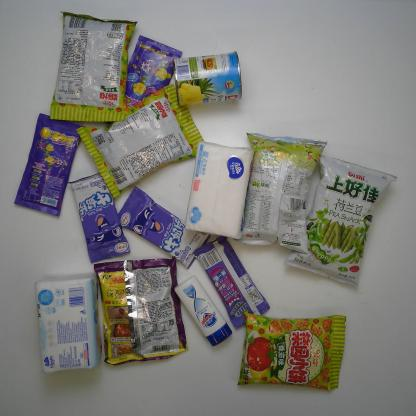Candy: (116, 184, 212, 272), (9, 112, 84, 218), (191, 232, 271, 331), (65, 170, 131, 265), (119, 33, 184, 112)
Canned Food: (170, 48, 246, 110)
Instant Noodles: (88, 254, 192, 368)
Personal Hygiene: (170, 274, 237, 350)
Puffed Food: (71, 77, 209, 200), (282, 152, 401, 288), (231, 131, 329, 255), (48, 7, 140, 128), (230, 306, 349, 394)
Tissue: (181, 137, 254, 244), (30, 271, 100, 378)
